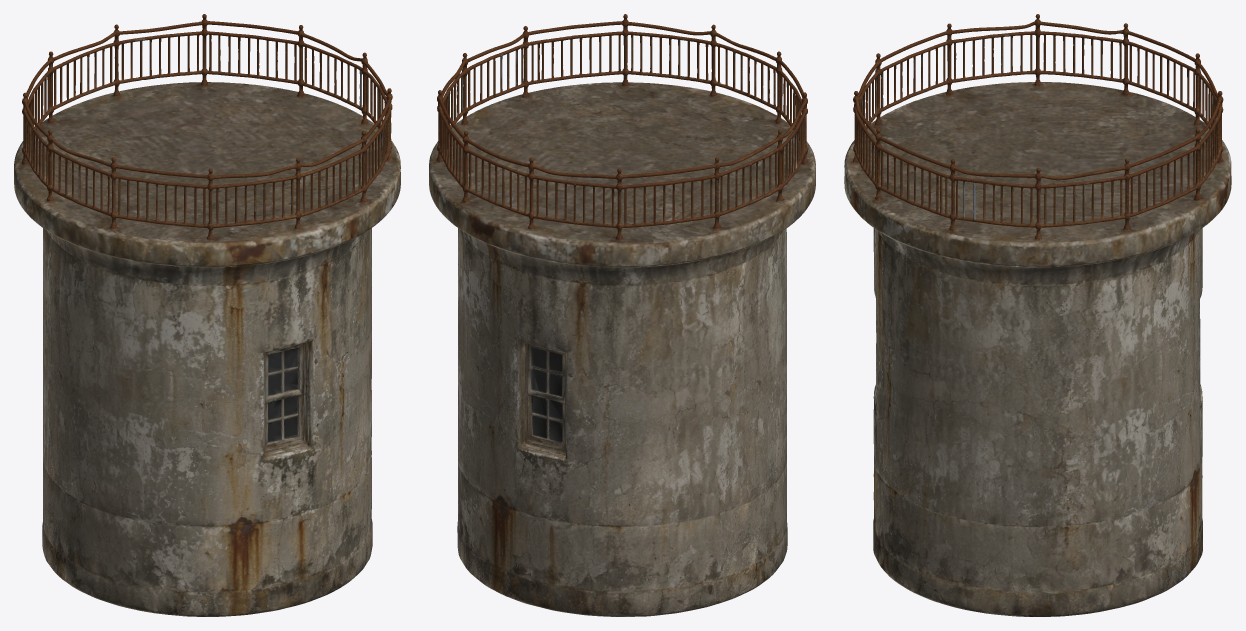
The model's file is gt_round.glb.
3 renders of one model, left to right at view 1: azimuth 30°, elevation 25°; view 2: azimuth 150°, elevation 25°; view 3: azimuth 270°, elevation 25°, orthographic.
Parts seen in each view (by area): view 1: gt_round; view 2: gt_round; view 3: gt_round.
Boxes of the visible parts, <box> form: gt_round: <box>14,14,400,616</box>; gt_round: <box>429,14,815,616</box>; gt_round: <box>844,14,1231,616</box>.
Bounding box in the file's own units: 1.46 × 1.9 × 1.46.
1 material, 1 textured.
